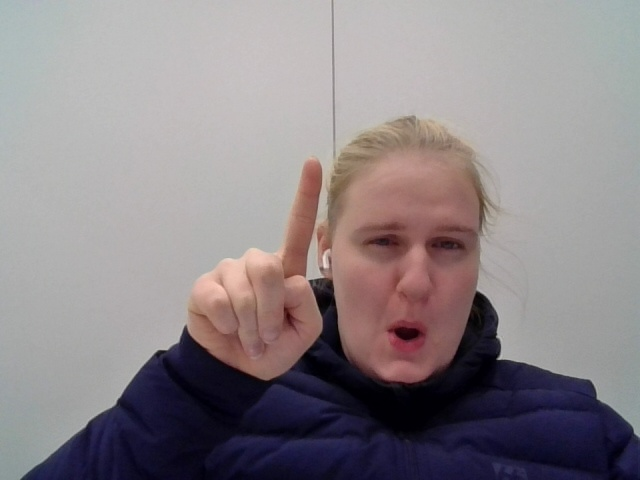up: (186, 151, 332, 391)
